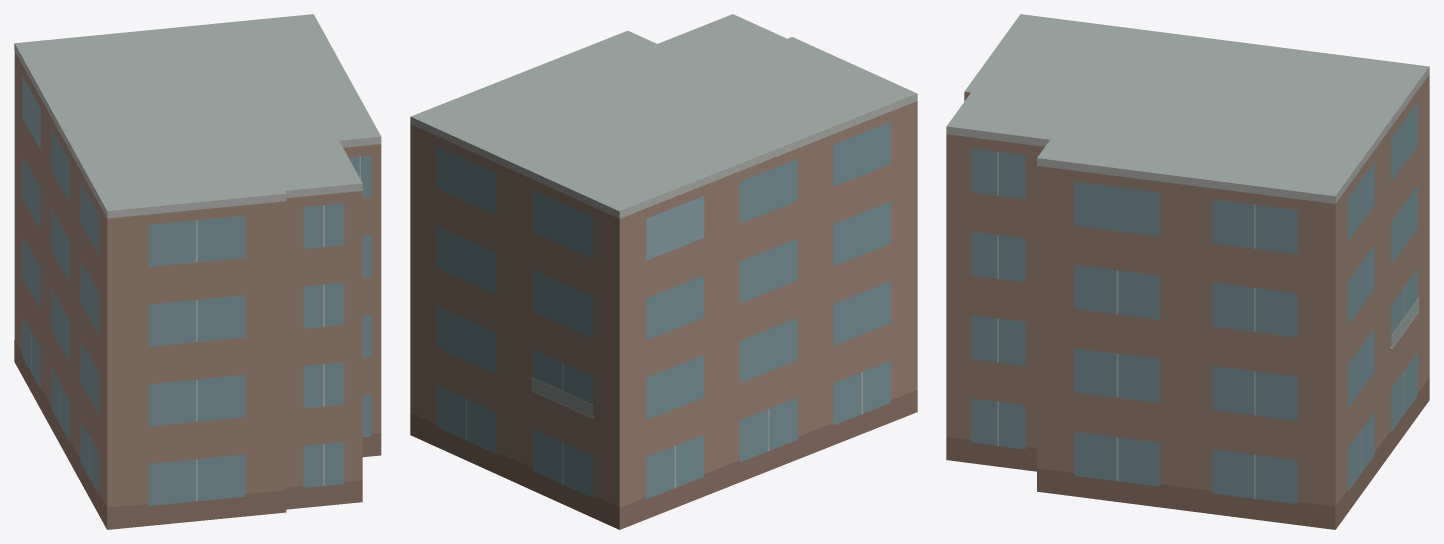
File: survey-upis-32795283.glb
3 views of the same model, side by side, from view 1: azimuth 30°, elevation 25°; view 2: azimuth 150°, elevation 25°; view 3: azimuth 270°, elevation 25° (orthographic). The views are drawn at different scales.
Visible parts, largest first — view 1: survey-upis-32795283.tmp; view 2: survey-upis-32795283.tmp; view 3: survey-upis-32795283.tmp.
Boxes of the visible parts, x1,y1,x2,y2 form: survey-upis-32795283.tmp: (14,14,381,529); survey-upis-32795283.tmp: (410,14,917,529); survey-upis-32795283.tmp: (946,14,1429,529).
Size of the model in its own units: 12.38 by 10.55 by 13.86.
